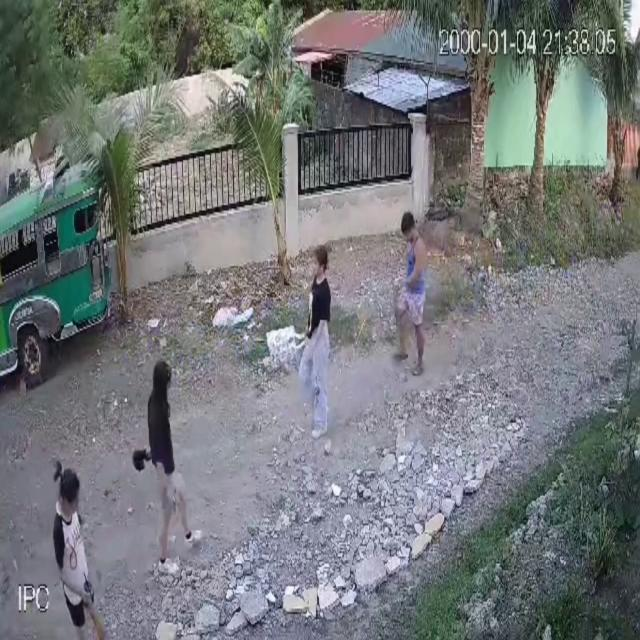walking: (130, 354, 209, 580), (261, 238, 342, 448), (46, 461, 111, 640), (388, 208, 432, 380)
